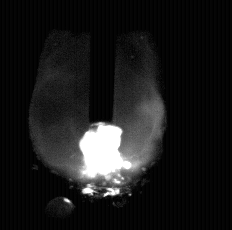arame: (89, 0, 115, 131)
poca: (28, 0, 167, 230)
